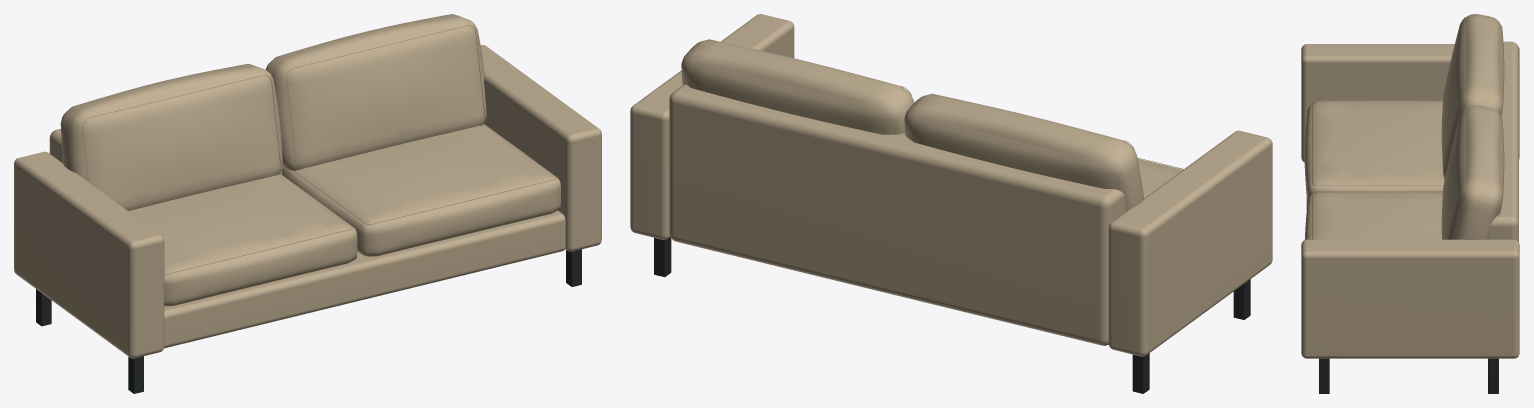
File: sofa-sand.glb
3 views of the same model, side by side, from view 1: azimuth 30°, elevation 25°; view 2: azimuth 150°, elevation 25°; view 3: azimuth 270°, elevation 25° (orthographic). The views are drawn at different scales.
Visible parts, largest first — view 1: FORMA_Optimized; view 2: FORMA_Optimized; view 3: FORMA_Optimized.
Part boxes in pixels (x1,y1,x2,y2): FORMA_Optimized: (14,14,601,393); FORMA_Optimized: (630,14,1272,393); FORMA_Optimized: (1301,14,1519,393).
Size of the model in its own units: 2.2 by 0.9626 by 0.96.
